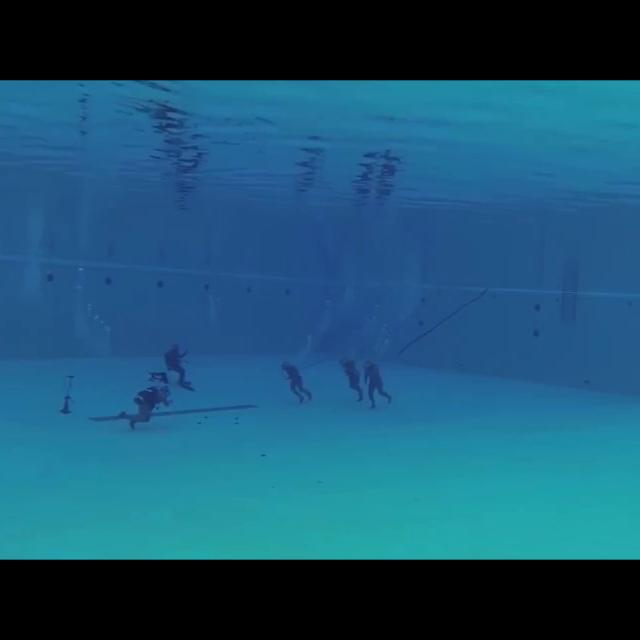human: (111, 378, 178, 436), (276, 351, 317, 409), (161, 338, 198, 396), (361, 356, 395, 415), (335, 346, 367, 407)
